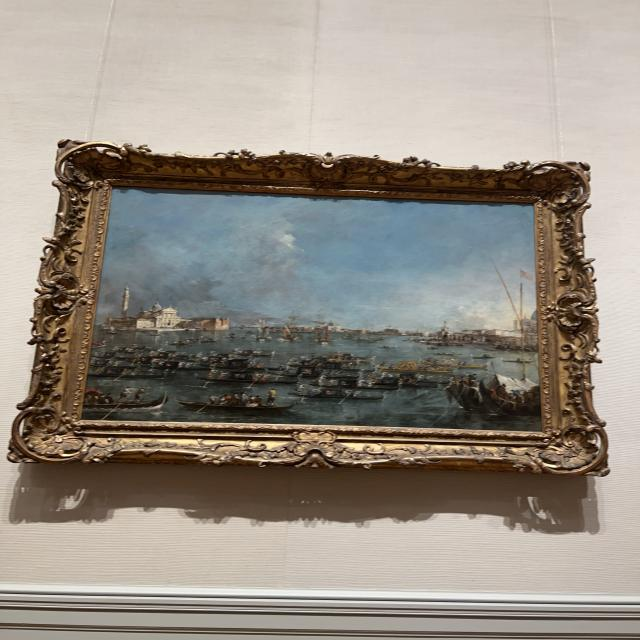ships: (81, 184, 543, 432)
